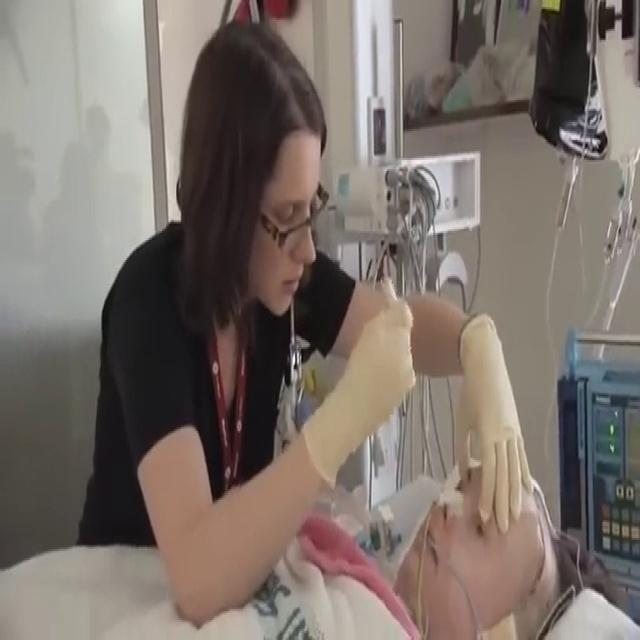monitor: (556, 329, 639, 622)
nurse: (76, 16, 426, 518)
patient: (337, 453, 565, 638)
